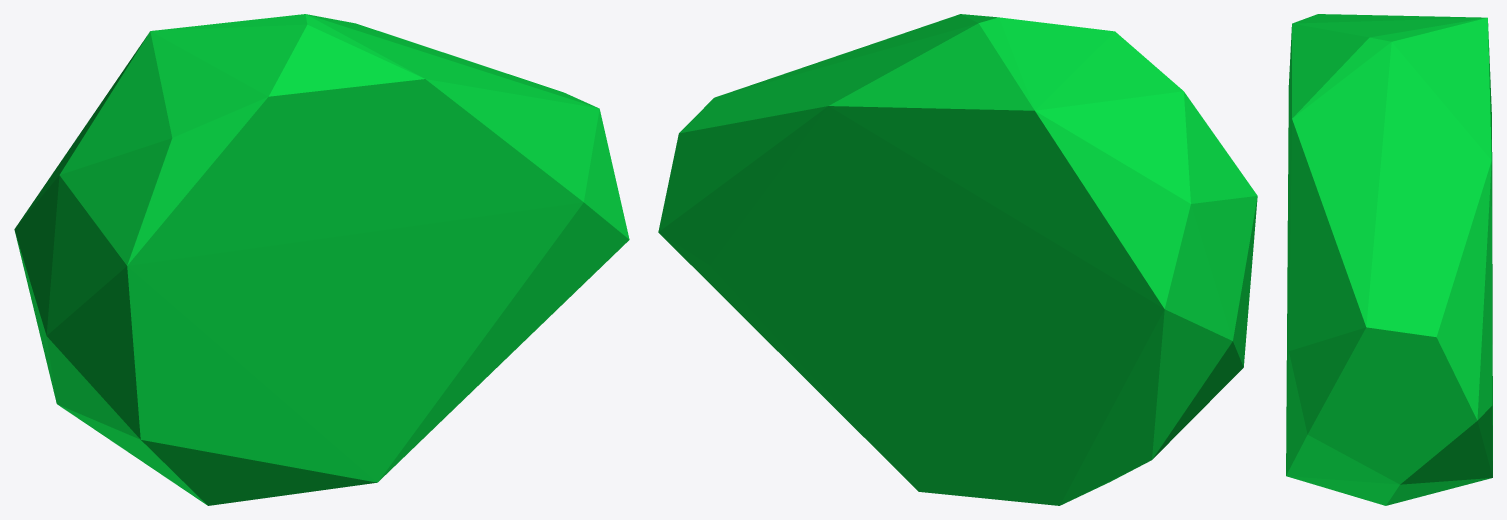
The model's file is toe-A-rod_convex_piece_002.obj.
The picture shows the model from 3 angles, left to right: view 1: azimuth 30°, elevation 25°; view 2: azimuth 150°, elevation 25°; view 3: azimuth 270°, elevation 25°; orthographic projection.
Size of the model in its own units: 0.0197 by 0.0159 by 0.00666.
